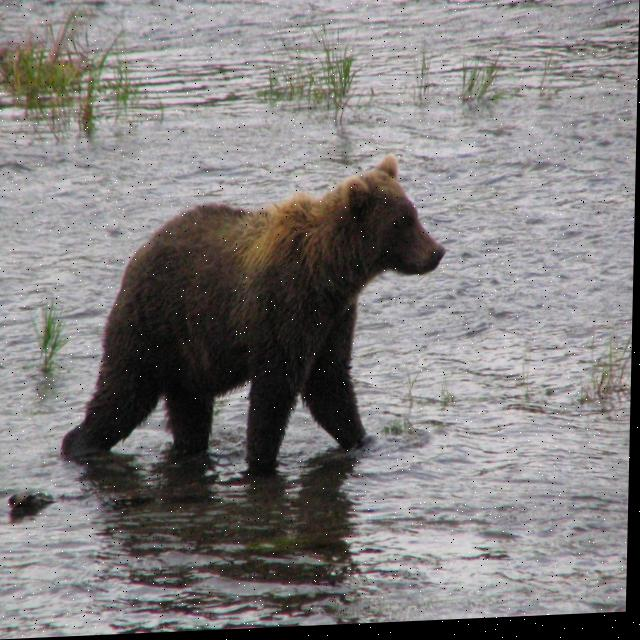bear face: (65, 157, 450, 476)
